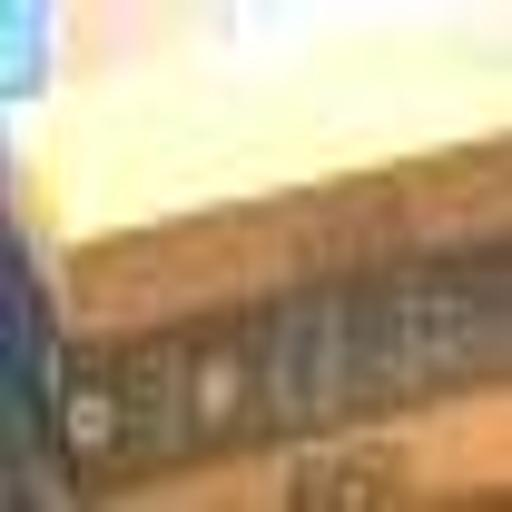Amazon: (4, 102, 495, 468)
